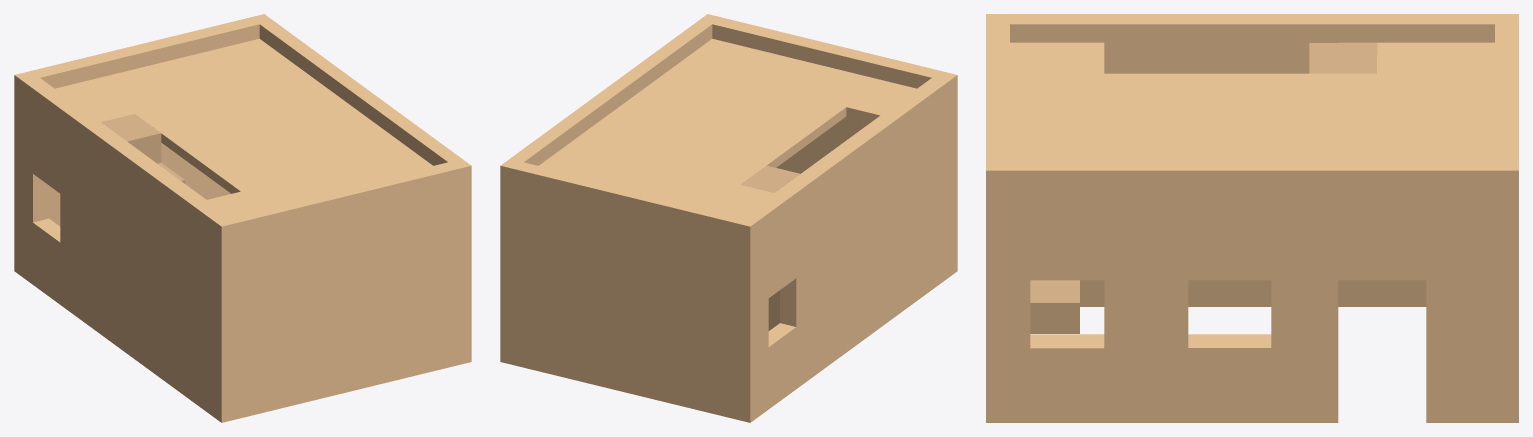
File: deserthouse.fbx
3 views of the same model, side by side, from view 1: azimuth 30°, elevation 25°; view 2: azimuth 150°, elevation 25°; view 3: azimuth 270°, elevation 25° (orthographic). The views are drawn at different scales.
Parts seen in each view (by area): view 1: Cube; view 2: Cube; view 3: Cube.
Part boxes in pixels (x1,y1,x2,y2): Cube: (14,14,471,422); Cube: (500,14,957,422); Cube: (986,14,1518,422).
Size of the model in its own units: 1569 by 1138 by 2178.
